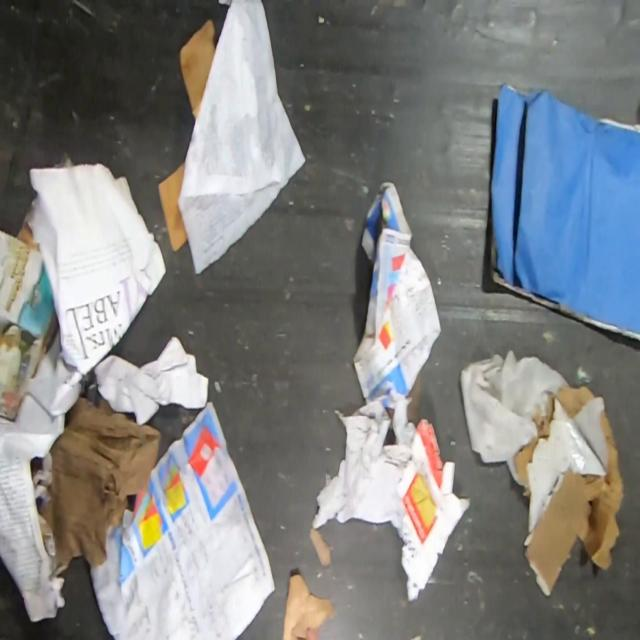cardboard: (486, 78, 640, 347), (38, 371, 160, 579), (510, 384, 624, 598), (0, 231, 58, 422), (178, 17, 220, 121), (156, 161, 189, 252)
